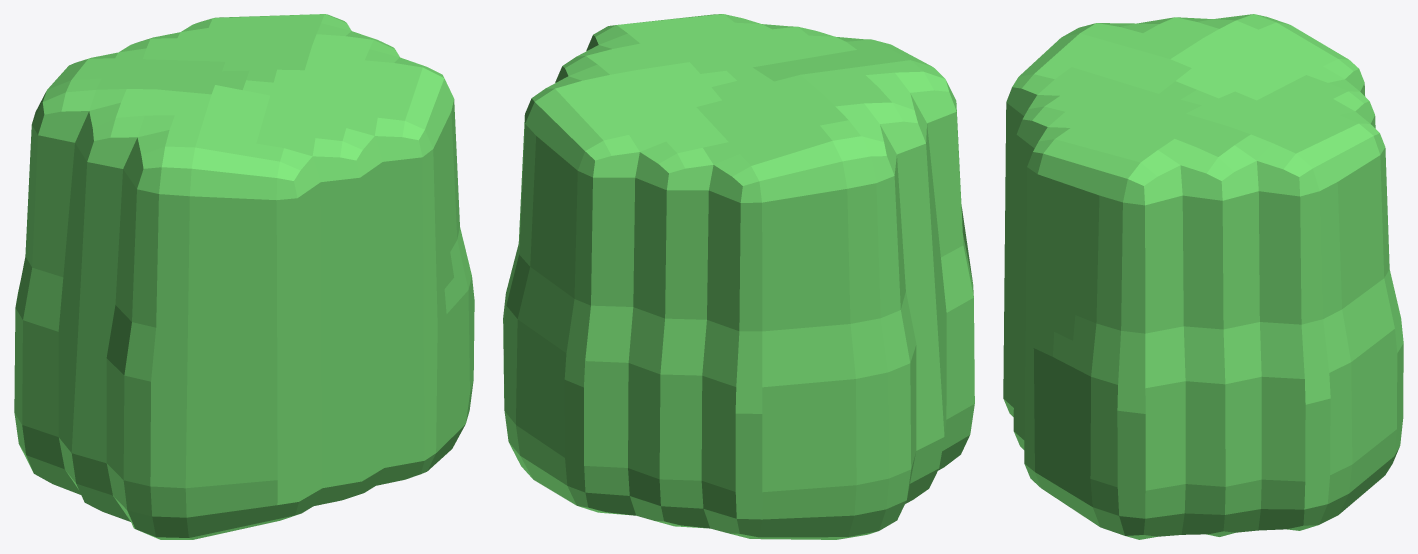
The model's file is Uncommon.fbx.
3 renders of one model, left to right at view 1: azimuth 30°, elevation 25°; view 2: azimuth 150°, elevation 25°; view 3: azimuth 270°, elevation 25°, orthographic. The views are drawn at different scales.
Visible parts, largest first — view 1: Cylinder; view 2: Cylinder; view 3: Cylinder.
Boxes of the visible parts, x1,y1,x2,y2 form: Cylinder: [14, 14, 474, 539]; Cylinder: [503, 14, 974, 539]; Cylinder: [1003, 14, 1403, 539].
Size of the model in its own units: 64.81 by 64.18 by 58.5.
